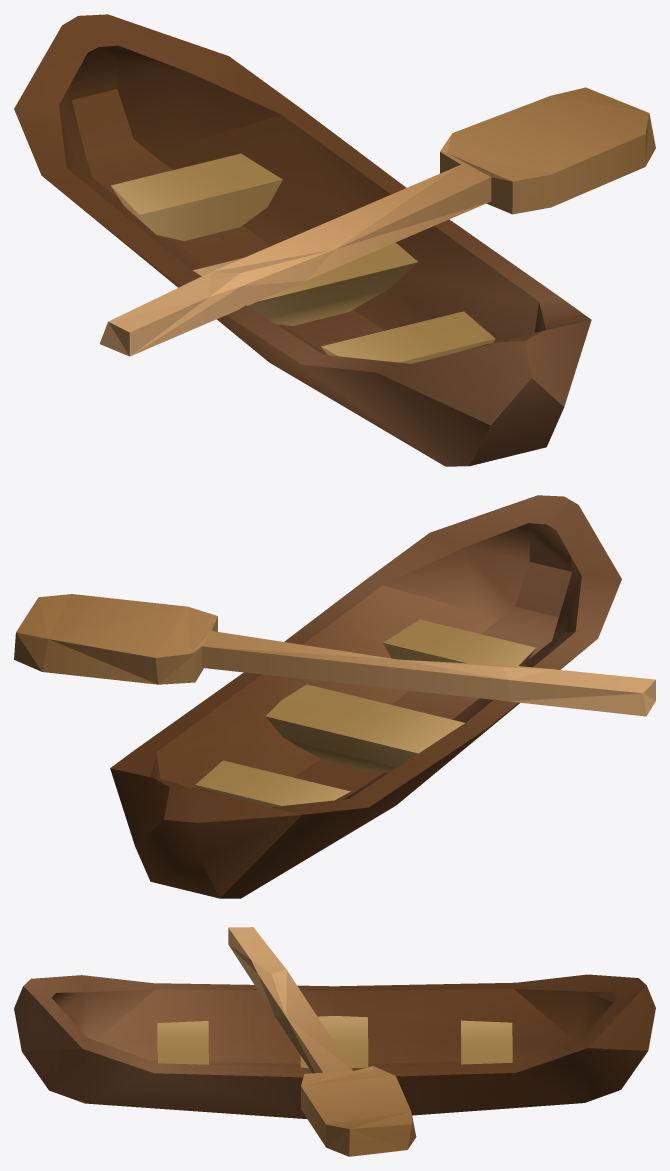
The model's file is Canoe.gltf.
The picture shows the model from 3 angles, top to bottom: view 1: azimuth 30°, elevation 25°; view 2: azimuth 150°, elevation 25°; view 3: azimuth 270°, elevation 25°; orthographic projection. The views are drawn at different scales.
Visible parts, largest first — view 1: Canoe_Body, Canoe_Paddle; view 2: Canoe_Body, Canoe_Paddle; view 3: Canoe_Body, Canoe_Paddle.
Boxes of the visible parts, x1=… form: Canoe_Body: x1=14, y1=14, x2=591, y2=466; Canoe_Paddle: x1=99, y1=87, x2=655, y2=356; Canoe_Body: x1=110, y1=495, x2=621, y2=898; Canoe_Paddle: x1=14, y1=594, x2=655, y2=716; Canoe_Body: x1=14, y1=974, x2=655, y2=1118; Canoe_Paddle: x1=228, y1=927, x2=416, y2=1156.
Bounding box in the file's own units: 2.05 × 0.5537 × 2.61.
Materials: 1 (1 with a texture image).
